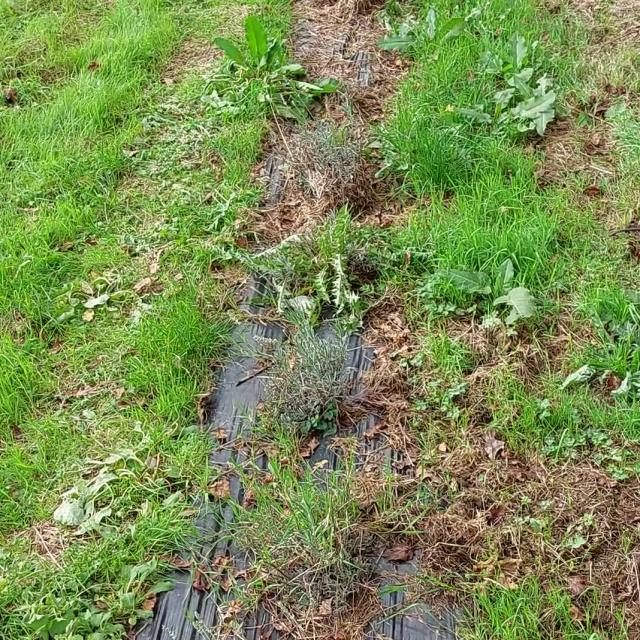organic waste: (210, 5, 332, 139), (447, 245, 559, 337), (47, 443, 160, 508), (492, 67, 582, 142), (362, 5, 457, 69), (53, 264, 132, 331), (454, 82, 541, 141), (467, 28, 548, 90)
